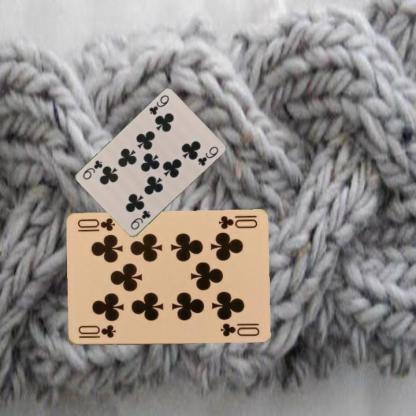10c: (216, 212, 258, 231), (75, 322, 117, 340)
9c: (146, 92, 171, 117), (128, 208, 152, 231)
